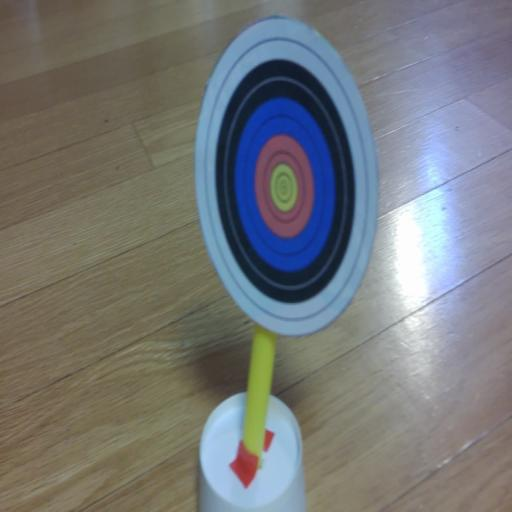target: (194, 16, 378, 336)
